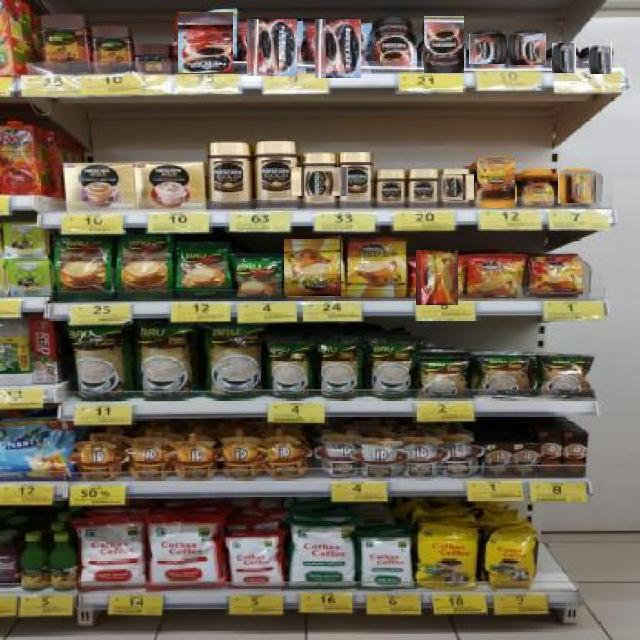Coffee: (348, 238, 404, 298), (178, 12, 233, 73), (284, 238, 341, 296), (246, 19, 297, 76), (314, 19, 361, 78), (256, 142, 297, 209), (210, 142, 249, 209), (467, 254, 522, 297), (373, 17, 415, 73), (423, 16, 464, 73), (417, 250, 458, 305), (477, 156, 515, 208), (341, 153, 373, 207), (292, 166, 348, 196), (522, 169, 556, 206), (508, 33, 546, 65), (558, 171, 596, 203), (468, 34, 507, 64), (378, 168, 405, 206), (412, 169, 438, 206), (437, 175, 474, 200), (589, 41, 612, 74), (552, 42, 576, 73)
